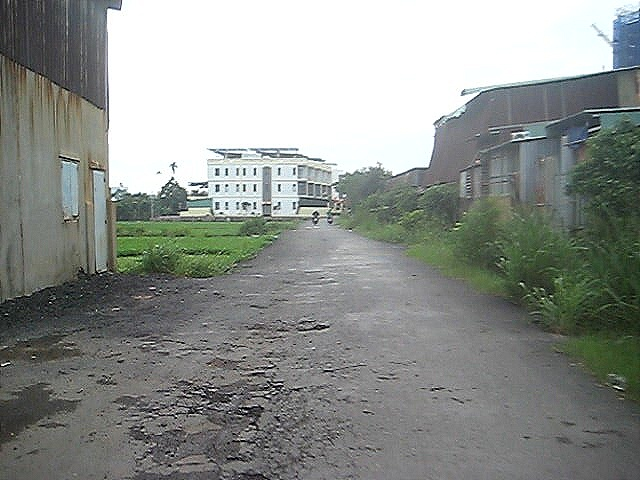hole: (184, 385, 229, 415), (250, 366, 288, 392), (235, 404, 266, 431), (226, 469, 279, 480), (207, 356, 246, 368), (294, 320, 328, 333)
